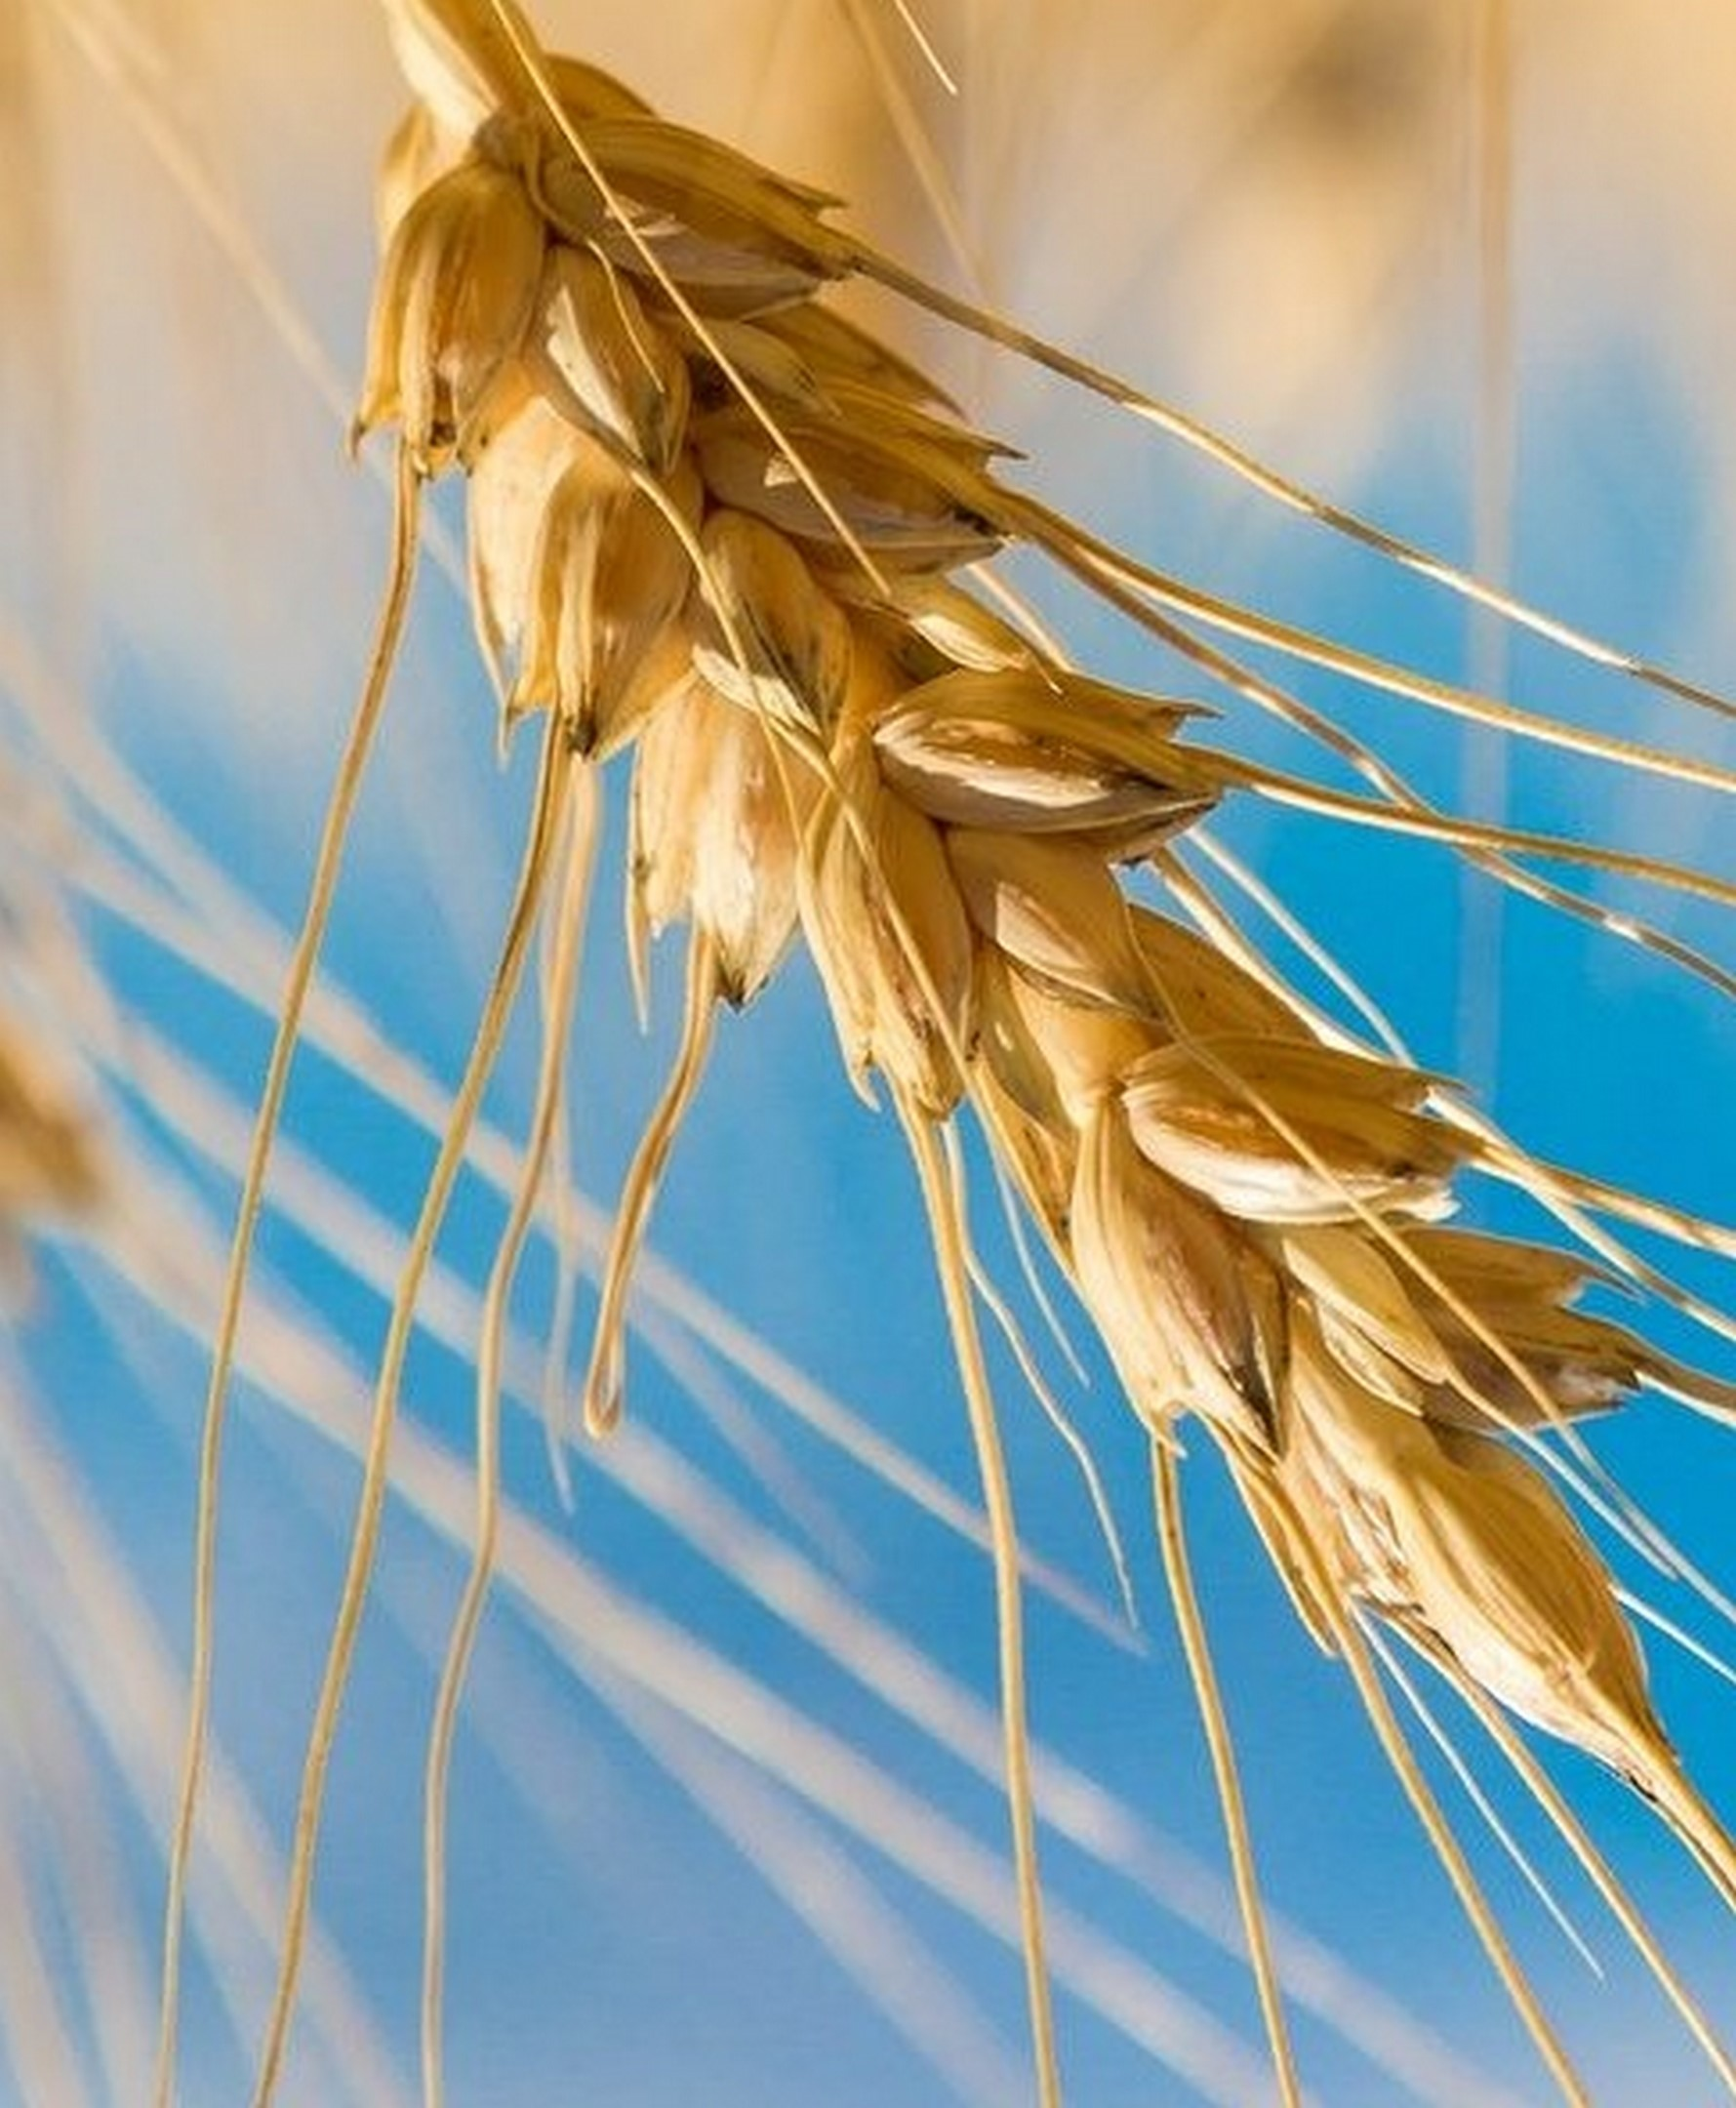Healthy Wheat: (408, 103, 1724, 1775)
